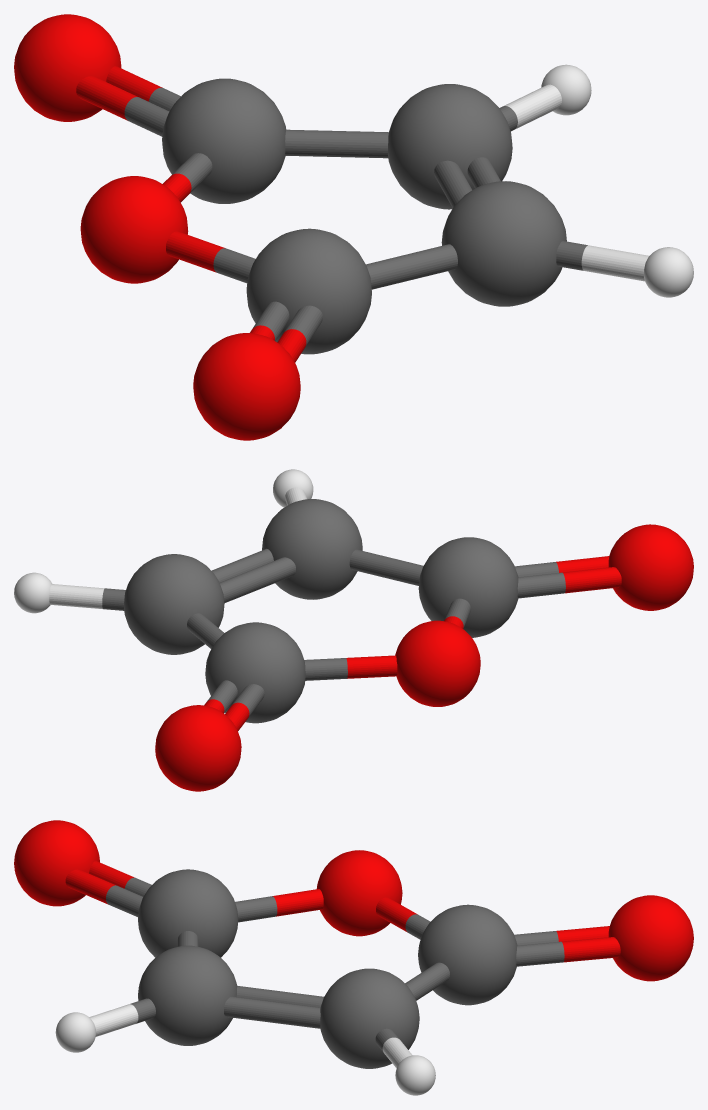
Rendered from maleic_anhydride.fbx.
3 renders of one model, top to bottom at view 1: azimuth 30°, elevation 25°; view 2: azimuth 150°, elevation 25°; view 3: azimuth 270°, elevation 25°, orthographic. The views are drawn at different scales.
Visible parts, largest first — view 1: C02, C04, C01, C03, O08, O05, O09, C03-C04, C04=O09, C02-H06, C01-C02, C01-O05 (+9 smaller); view 2: C03, C02, C01, C04, O09, O05, O08, C01=O08.001, C04-O05, C02=C03, C03-H07, C01-C02 (+8 smaller); view 3: C04, C02, C03, C01, O09, O05, O08, C04=O09.001, C02=C03.001, C01-O05, C01=O08, C02-H06 (+8 smaller).
Part boxes in pixels (box(x1,y1,x2,y2)): C02: box(441, 181, 566, 306); C04: box(162, 78, 286, 203); C01: box(246, 228, 371, 354); C03: box(388, 84, 512, 209); O08: box(193, 333, 300, 440); O05: box(80, 176, 188, 283); O09: box(14, 14, 121, 121); C03-C04: box(285, 129, 388, 158); C04=O09: box(76, 76, 169, 136); C02-H06: box(556, 241, 649, 281); C01-C02: box(366, 244, 457, 289); C01-O05: box(166, 231, 255, 283); C03: box(123, 554, 224, 654); C02: box(262, 499, 362, 599); C01: box(418, 537, 518, 637); C04: box(205, 622, 305, 723); O09: box(155, 705, 241, 791); O05: box(395, 620, 480, 706); O08: box(608, 524, 693, 610); C01=O08.001: box(517, 567, 621, 598); C04-O05: box(304, 655, 397, 680); C02=C03: box(220, 557, 295, 602); C03-H07: box(49, 584, 125, 610); C01-C02: box(349, 549, 423, 585); C04: box(418, 904, 517, 1005); C02: box(138, 945, 237, 1045); C03: box(320, 968, 419, 1068); C01: box(138, 869, 238, 957); O09: box(608, 895, 693, 981); O05: box(316, 850, 402, 936); O08: box(14, 820, 99, 906); C04=O09.001: box(516, 937, 620, 966); C02=C03.001: box(224, 996, 320, 1028); C01-O05: box(235, 889, 323, 922); C01=O08: box(65, 869, 142, 916); C02-H06: box(89, 998, 155, 1036).
Bounding box in the file's own units: 433 × 77.01 × 520.
